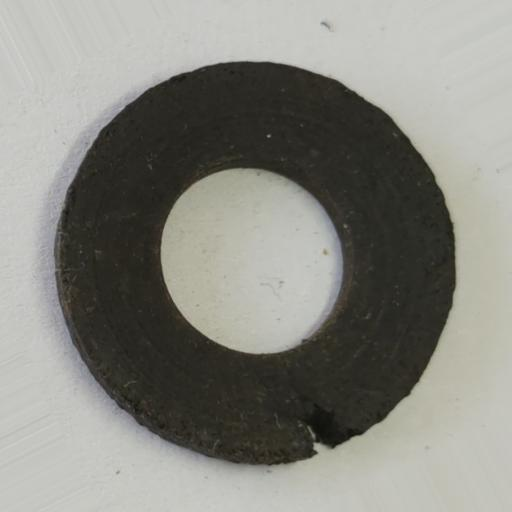defect: (303, 405, 342, 456)
